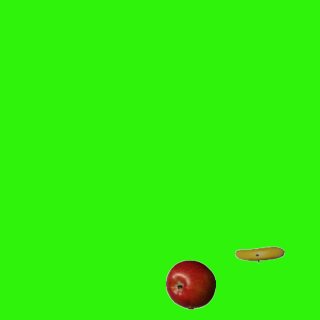Apple Braeburn: (165, 259, 215, 309)
Banana: (234, 229, 284, 279)
